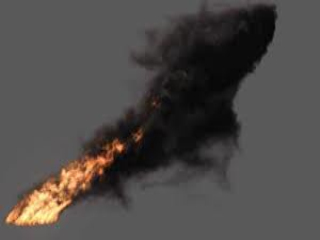fire: (5, 137, 104, 222)
smoke: (103, 6, 279, 187)
